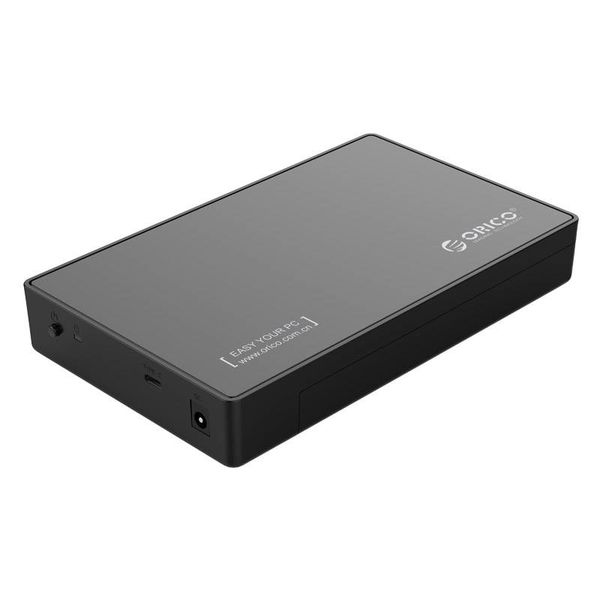Hard Disk Enclosure: (15, 127, 587, 481)
